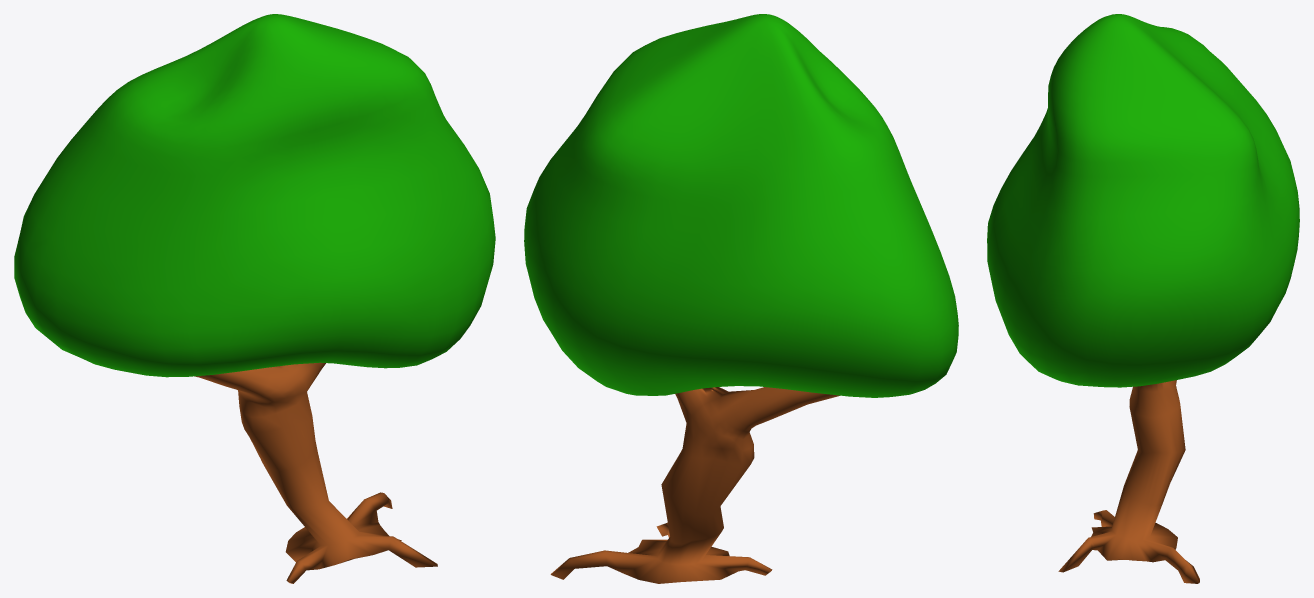
File: Baum_2.0.fbx
The picture shows the model from 3 angles, left to right: view 1: azimuth 30°, elevation 25°; view 2: azimuth 150°, elevation 25°; view 3: azimuth 270°, elevation 25°; orthographic projection. The views are drawn at different scales.
Parts seen in each view (by area): view 1: Sphere, Cylinder; view 2: Sphere, Cylinder; view 3: Sphere, Cylinder.
Part boxes in pixels (left/top/right/bottom): Sphere: left=14, top=14, right=495, bottom=377; Cylinder: left=194, top=362, right=437, bottom=583; Sphere: left=524, top=14, right=958, bottom=397; Cylinder: left=550, top=387, right=839, bottom=583; Sphere: left=987, top=14, right=1299, bottom=387; Cylinder: left=1058, top=380, right=1199, bottom=583.
Bounding box in the file's own units: 573 × 725 × 412.
